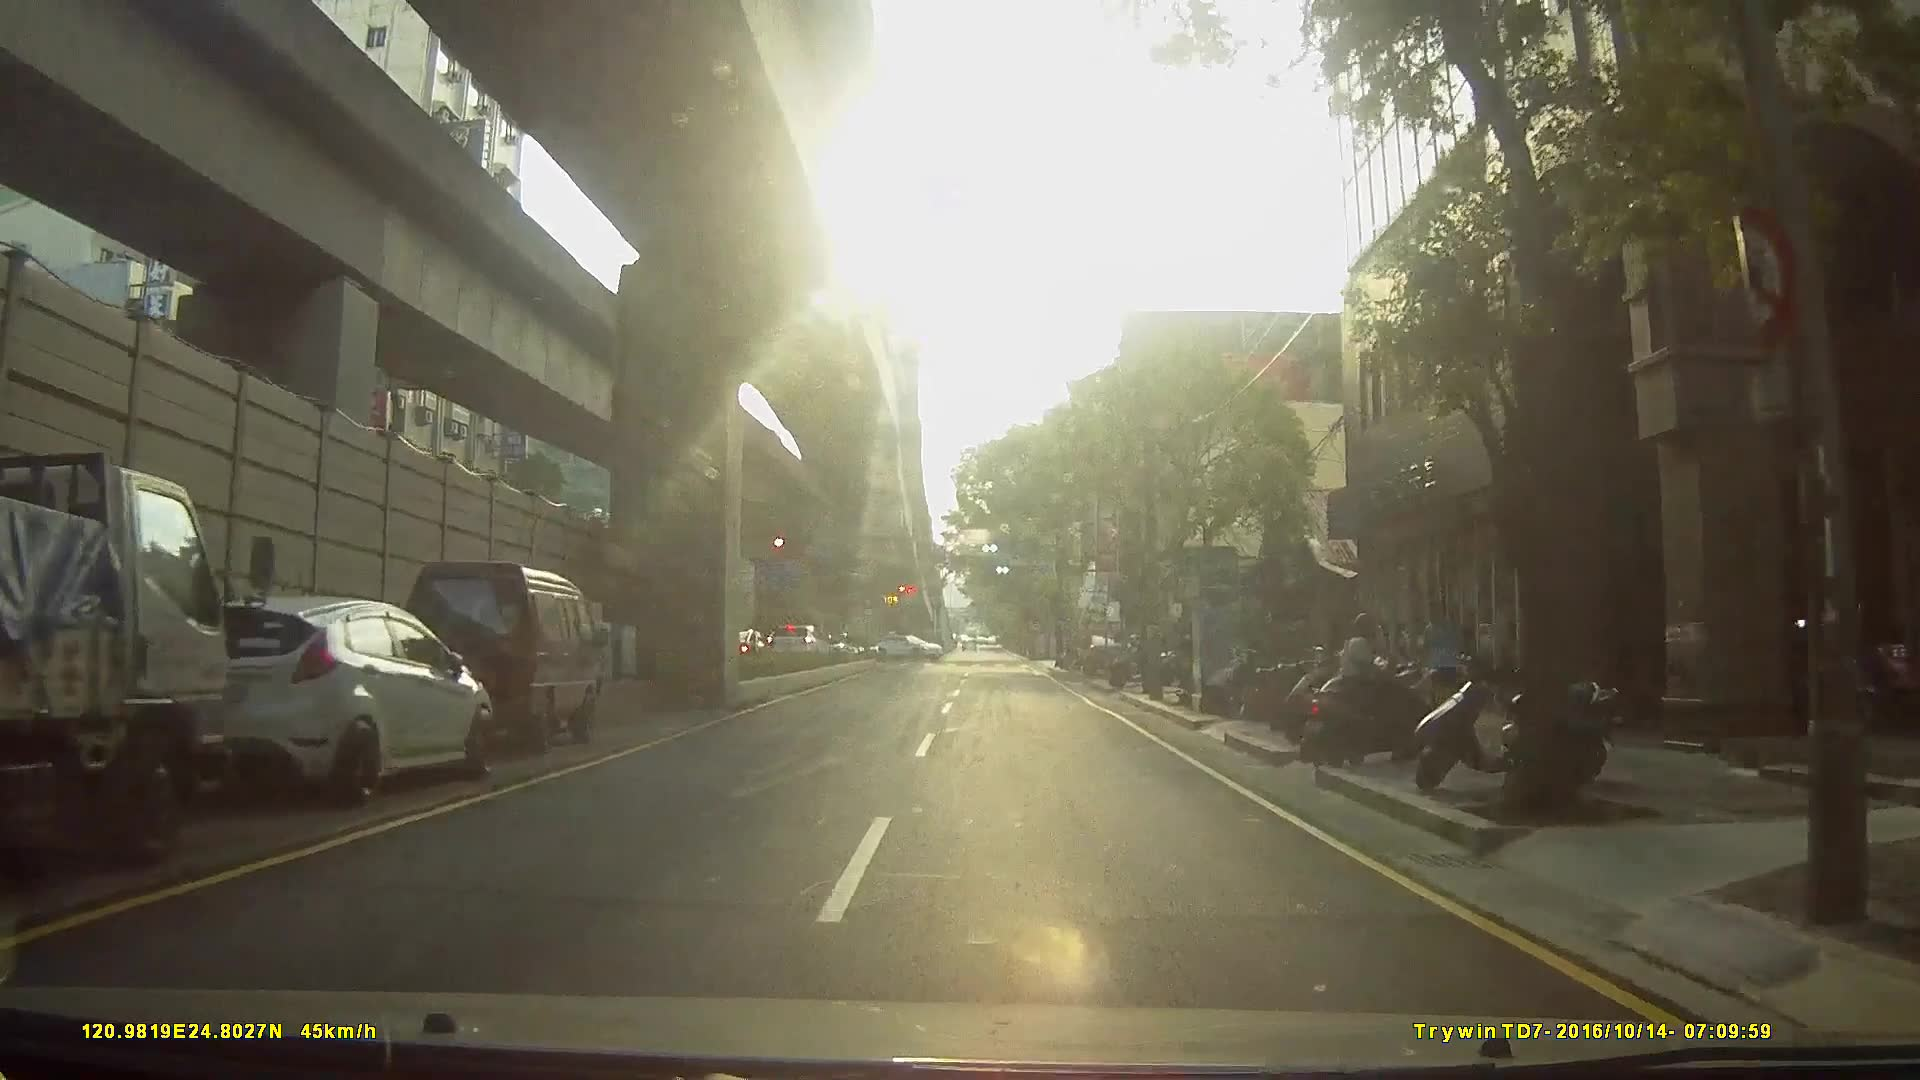pedestrian: (1412, 597, 1467, 729)
rider: (1299, 606, 1450, 768)
vehicle: (1, 443, 294, 884), (169, 576, 489, 812), (384, 552, 606, 755), (763, 620, 833, 663), (1076, 629, 1125, 672), (874, 630, 943, 658)
